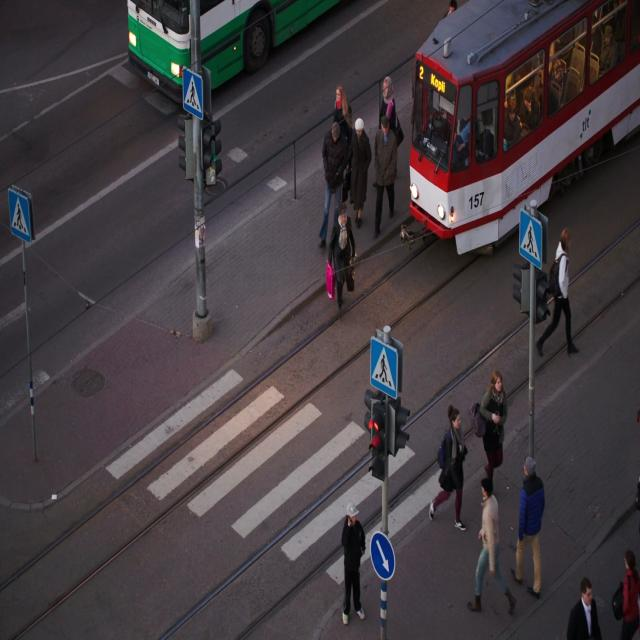pedestrian: (429, 405, 467, 529), (513, 481, 544, 583), (328, 205, 355, 310), (473, 372, 507, 455), (479, 460, 499, 578), (530, 545, 540, 597), (524, 458, 534, 484)
